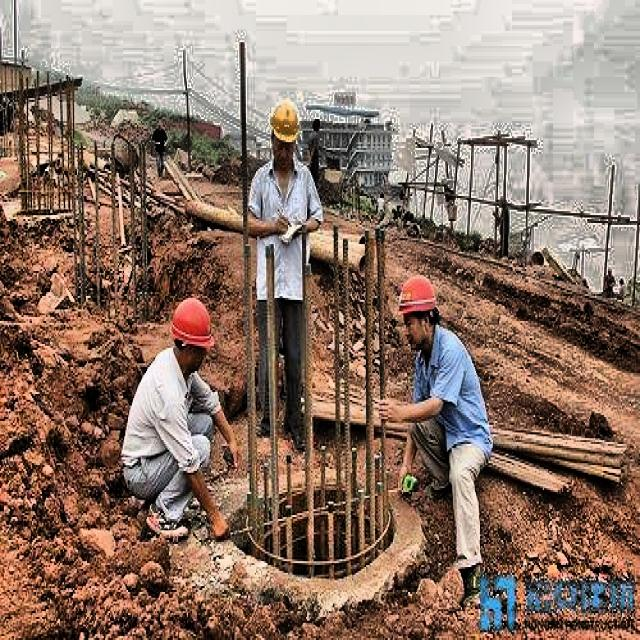helmet: (391, 263, 442, 348), (168, 290, 214, 369), (265, 88, 303, 175)
